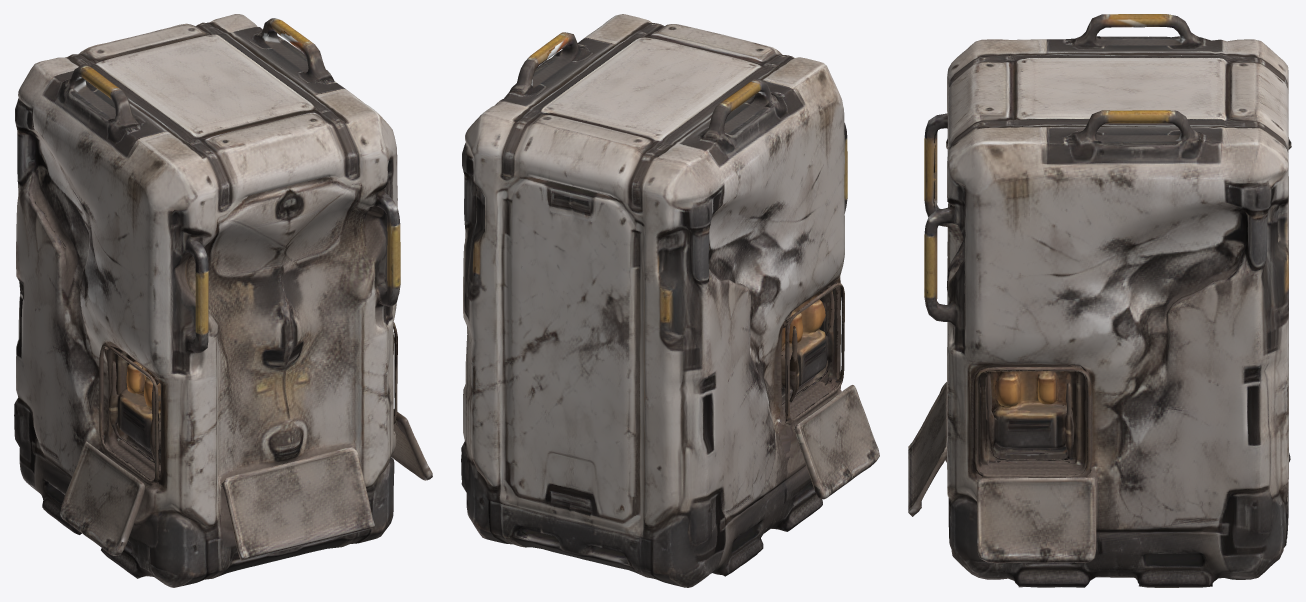
Rendered from CargoPod_base_basic_pbr.glb.
3 views of the same model, side by side, from view 1: azimuth 30°, elevation 25°; view 2: azimuth 150°, elevation 25°; view 3: azimuth 270°, elevation 25° (orthographic). The views are drawn at different scales.
Parts seen in each view (by area): view 1: model; view 2: model; view 3: model.
Part boxes in pixels (bbox=[...]): model: bbox=[14, 14, 432, 587]; model: bbox=[461, 14, 879, 587]; model: bbox=[908, 14, 1291, 587].
Bounding box in the file's own units: 1.4 × 1.9 × 1.42.
1 material, 1 textured.
